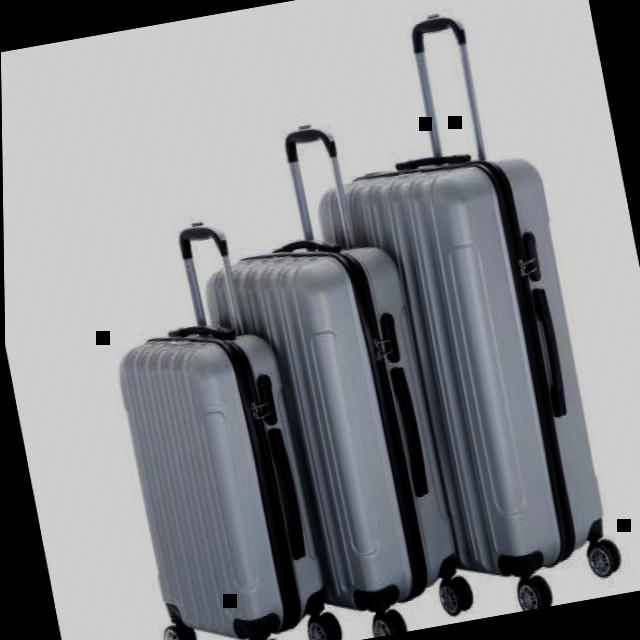luggage: (305, 133, 618, 605), (191, 218, 469, 636), (104, 306, 335, 640)
